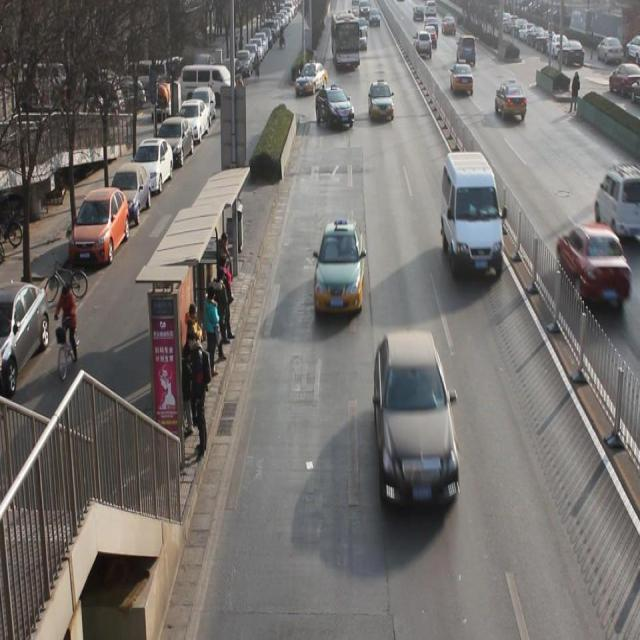car: (374, 338, 462, 507), (563, 226, 622, 301), (317, 218, 364, 312), (599, 167, 640, 235), (318, 88, 353, 130), (495, 79, 528, 121), (368, 82, 393, 118), (300, 62, 326, 94), (450, 64, 476, 95), (414, 30, 433, 58), (458, 36, 478, 61), (425, 24, 440, 50), (356, 26, 367, 52)
truck: (441, 154, 506, 281)
